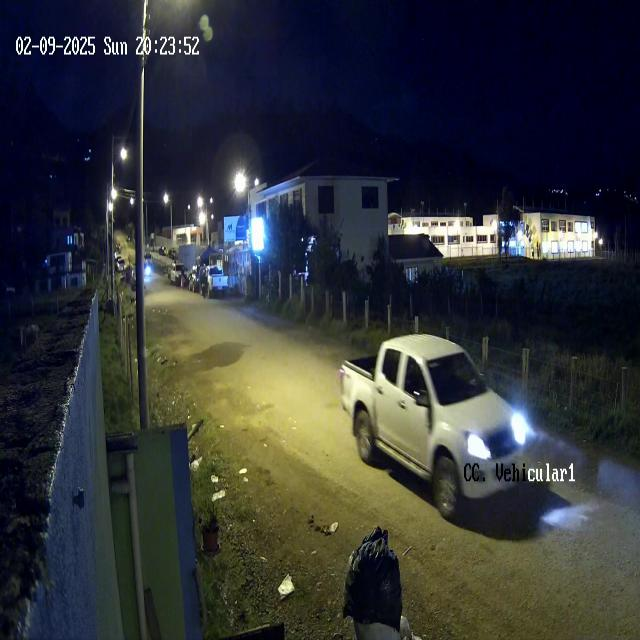CMT: (338, 328, 525, 519)
